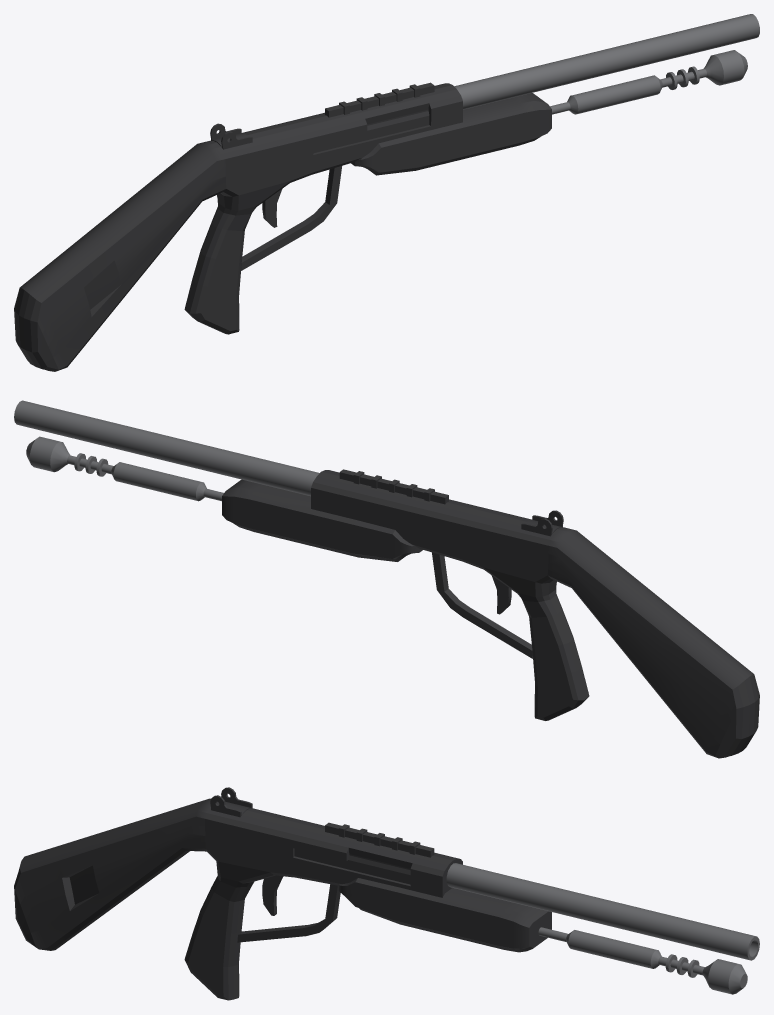
Rendered from Shotgun Model.fbx.
3 renders of one model, top to bottom at view 1: azimuth 30°, elevation 25°; view 2: azimuth 150°, elevation 25°; view 3: azimuth 330°, elevation 25°, orthographic.
Parts seen in each view (by area): view 1: Shotgun; view 2: Shotgun; view 3: Shotgun.
Part boxes in pixels (<box>): Shotgun: <box>14,14,759,371</box>; Shotgun: <box>14,400,759,758</box>; Shotgun: <box>14,787,759,1000</box>.
Size of the model in its own units: 108 by 28.67 by 6.65.
